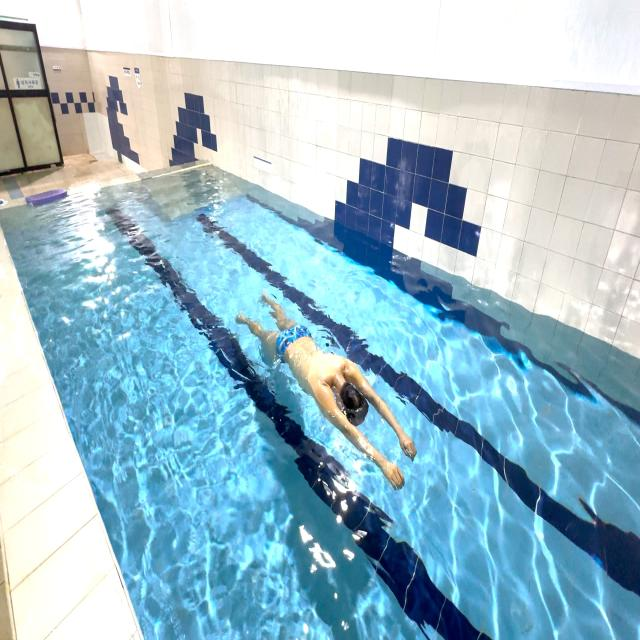Drowning: (232, 266, 421, 506)
